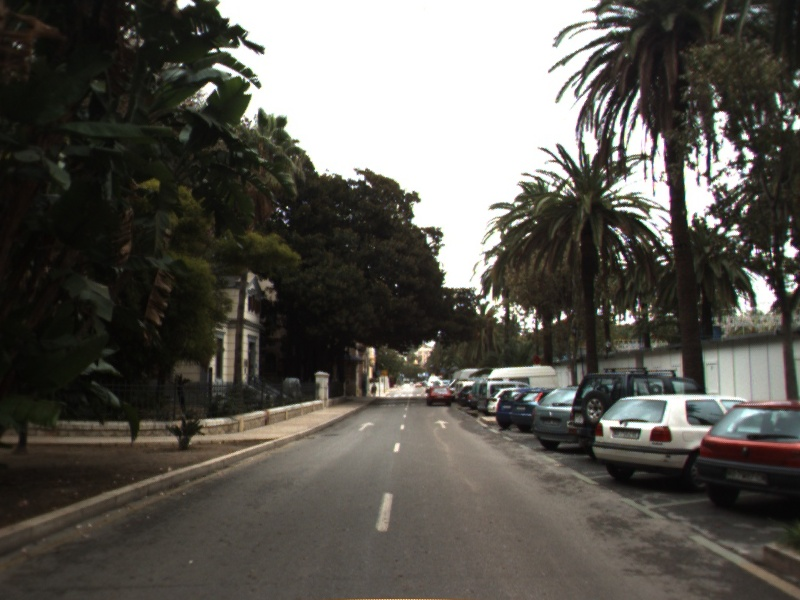STRAIGHT: (356, 420, 377, 433), (432, 417, 451, 430)
